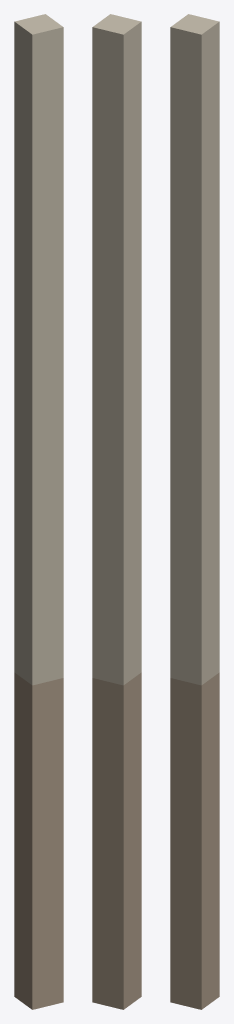
Rendered from Mesh_Wall2Colors_A5.fbx.
3 views of the same model, side by side, from view 1: azimuth 30°, elevation 25°; view 2: azimuth 150°, elevation 25°; view 3: azimuth 330°, elevation 25° (orthographic).
Parts seen in each view (by area): view 1: Mesh_Wall2Colors_A5; view 2: Mesh_Wall2Colors_A5; view 3: Mesh_Wall2Colors_A5.
Boxes of the visible parts, left/top/right/bottom form: Mesh_Wall2Colors_A5: left=14, top=14, right=63, bottom=1009; Mesh_Wall2Colors_A5: left=92, top=14, right=141, bottom=1009; Mesh_Wall2Colors_A5: left=170, top=14, right=219, bottom=1009.
Bounding box in the file's own units: 0.1 × 3 × 0.1.
